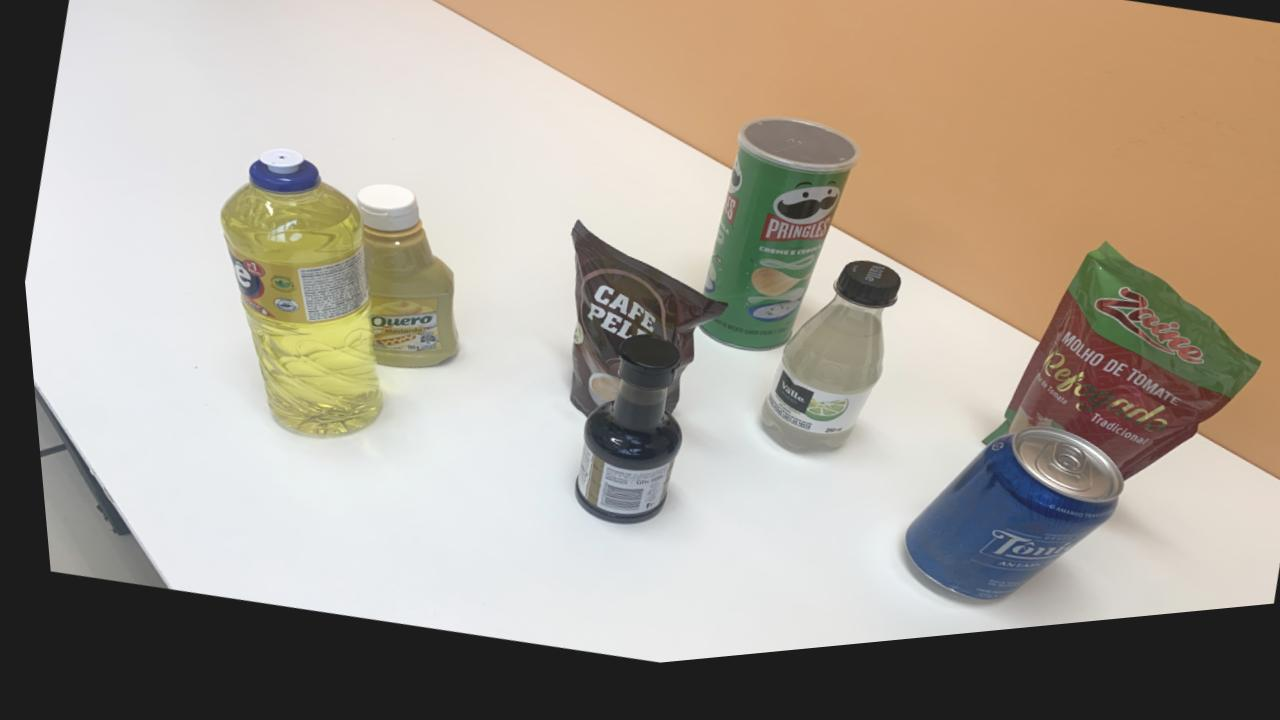Coffee-Pantry_Items: (561, 233, 720, 426)
Detergent-Cleanup_Items: (215, 154, 374, 442)
English_Sauce-Pantry_Items: (565, 348, 672, 536)
Mustard-Pantry_Items: (352, 191, 451, 375)
Pringles-Snacks: (695, 132, 856, 365)
Soda-Drinks: (752, 277, 894, 467)
Tomato_Sauce-Pantry_Items: (974, 265, 1252, 500)
Tonic-Drinks: (893, 447, 1112, 619)
